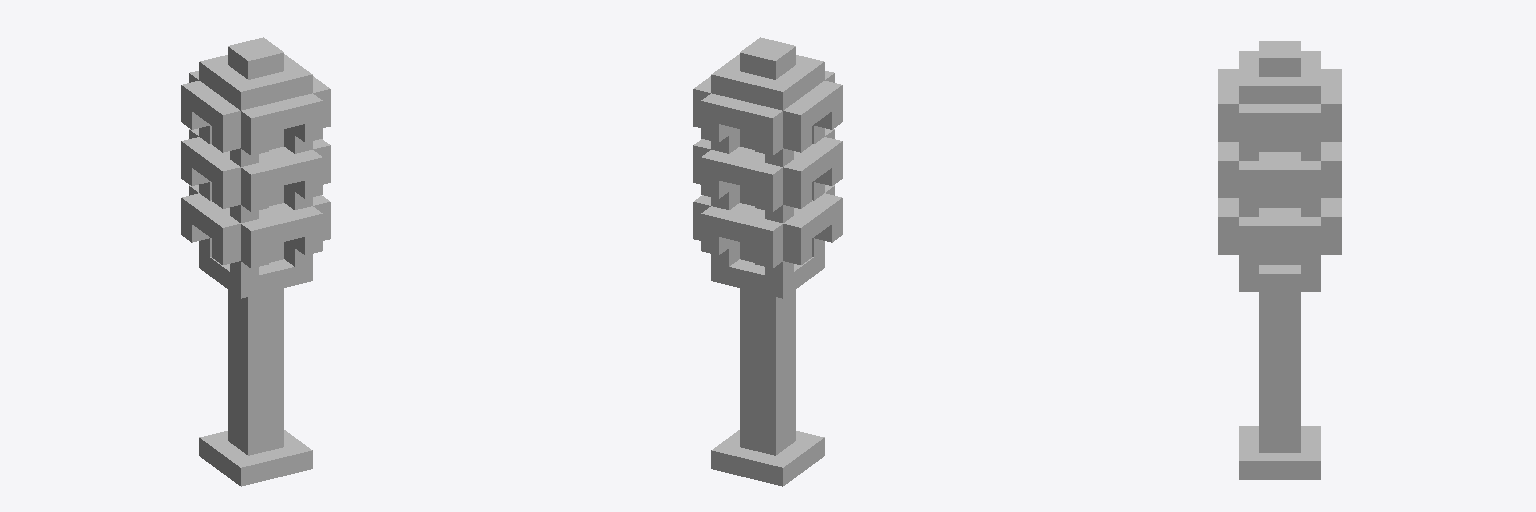
Rendered from Light.obj.
3 views of the same model, side by side, from view 1: azimuth 30°, elevation 25°; view 2: azimuth 150°, elevation 25°; view 3: azimuth 270°, elevation 25° (orthographic).
Visible parts, largest first — view 1: Light; view 2: Light; view 3: Light.
Boxes of the visible parts, box(x1,y1,x2,y2) form: Light: box(181, 37, 330, 486); Light: box(693, 37, 842, 486); Light: box(1218, 41, 1341, 479).
Bounding box in the file's own units: 6 × 22 × 6.